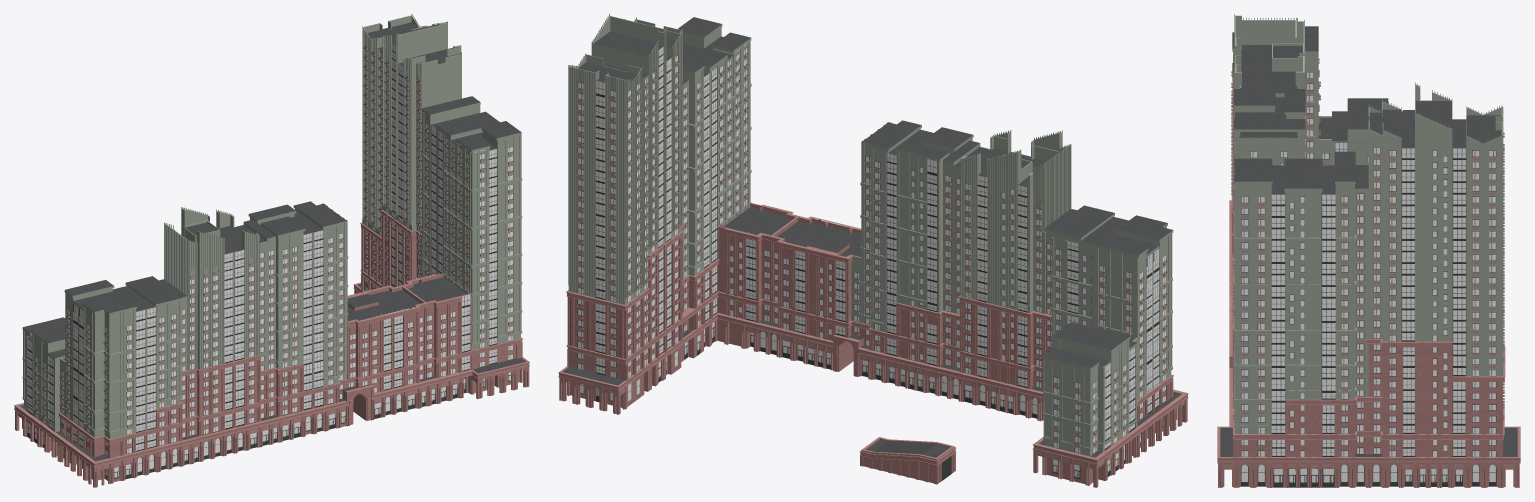
File: Erevanskaja.glb
3 renders of one model, left to right at view 1: azimuth 30°, elevation 25°; view 2: azimuth 150°, elevation 25°; view 3: azimuth 270°, elevation 25°, orthographic. The views are drawn at different scales.
Visible parts, largest first — view 1: Erevanskaja; view 2: Erevanskaja; view 3: Erevanskaja.
Part boxes in pixels (<box>): Erevanskaja: <box>14,14,529,487</box>; Erevanskaja: <box>558,14,1188,487</box>; Erevanskaja: <box>1217,14,1520,487</box>.
Size of the model in its own units: 144 by 97.45 by 71.41.
Materials: 1 (1 with a texture image).
